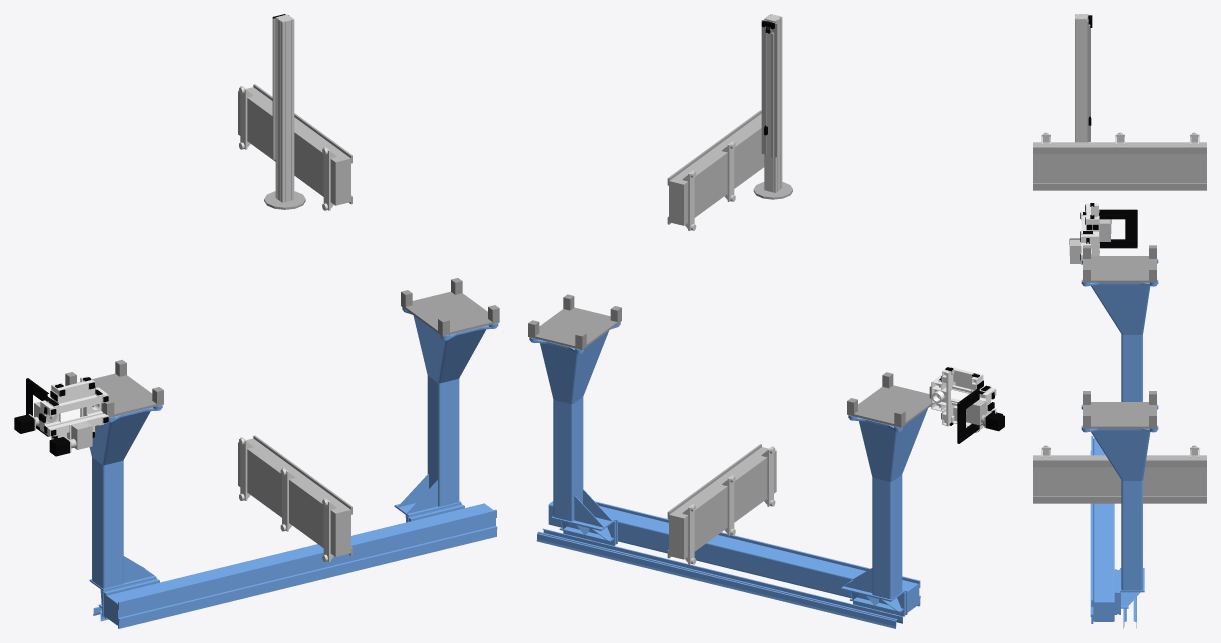
The model's file is Gantry simple lnks.dae.
3 renders of one model, left to right at view 1: azimuth 30°, elevation 25°; view 2: azimuth 150°, elevation 25°; view 3: azimuth 270°, elevation 25°, orthographic. The views are drawn at different scales.
Parts seen in each view (by area): view 1: Leg___Girder_, Base_, Trolley_, Arm_; view 2: Leg___Girder_, Base_, Arm_, Trolley_; view 3: Leg___Girder_, Base_, Trolley_, Arm_.
Part boxes in pixels (x1,y1,x2,y2): Leg___Girder_: [65, 278, 499, 628]; Base_: [238, 84, 352, 561]; Trolley_: [14, 376, 108, 456]; Arm_: [264, 14, 305, 209]; Leg___Girder_: [528, 294, 938, 628]; Base_: [667, 110, 776, 564]; Arm_: [753, 14, 792, 199]; Trolley_: [931, 366, 1004, 443]; Leg___Girder_: [1081, 245, 1158, 628]; Base_: [1033, 132, 1206, 503]; Trolley_: [1069, 203, 1137, 264]; Arm_: [1075, 14, 1092, 142].
Size of the model in its own units: 7.85 by 2.82 by 9.24.
